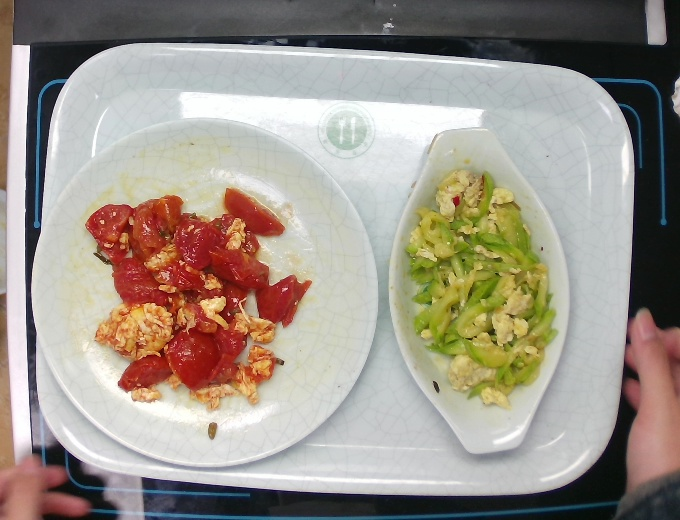JYsf-Da_Yuan_Pan: (27, 106, 391, 474)
JYsf-Yu_Pan: (383, 124, 576, 459)
